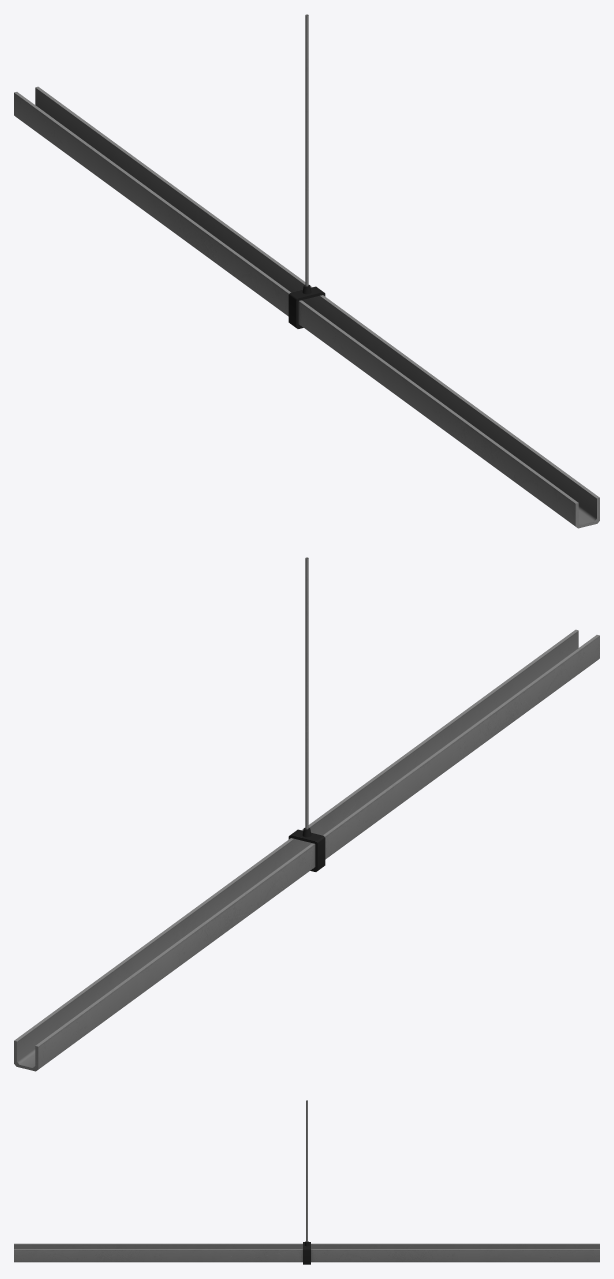
The model's file is CeilingLine_01.FBX.
3 views of the same model, one above another, from view 1: azimuth 30°, elevation 25°; view 2: azimuth 150°, elevation 25°; view 3: azimuth 270°, elevation 25° (orthographic). The views are drawn at different scales.
Visible parts, largest first — view 1: CeilingLine_01; view 2: CeilingLine_01; view 3: CeilingLine_01.
Part boxes in pixels (x1,y1,x2,y2): CeilingLine_01: (14,14,599,528); CeilingLine_01: (14,557,599,1071); CeilingLine_01: (14,1100,599,1264).
Bounding box in the file's own units: 6.01 × 60.55 × 200.
